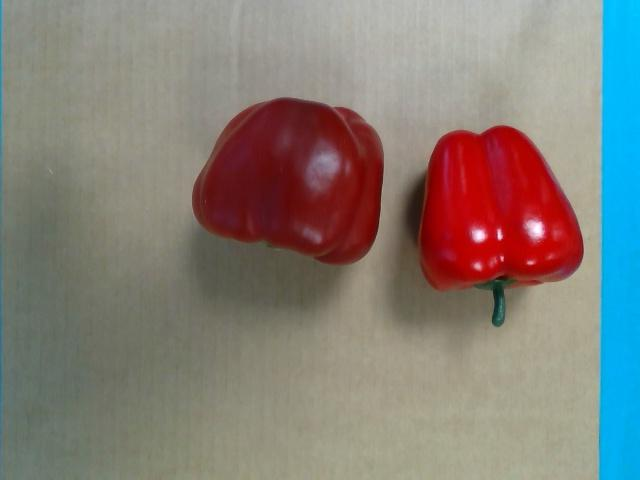red paprika: (419, 124, 584, 327), (191, 97, 386, 265)
